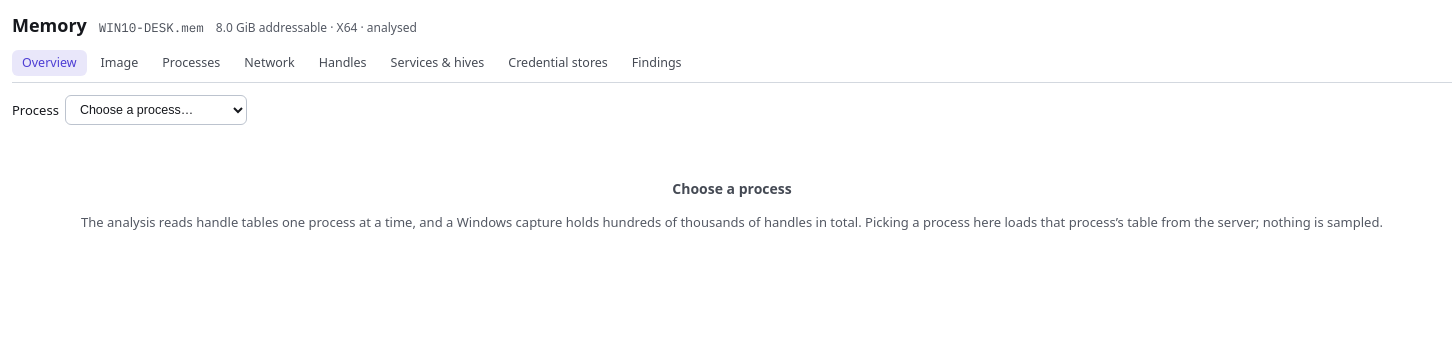
Test: MemoryHandlesPage › keeps an unnamed object apart from a name that could not be read, and neither from "not recorded"
Select "System (4) · 340 handles" in the dropdown labelled "Process" at x=156, y=110, box top-left (65, 95), bottom-right (247, 125)
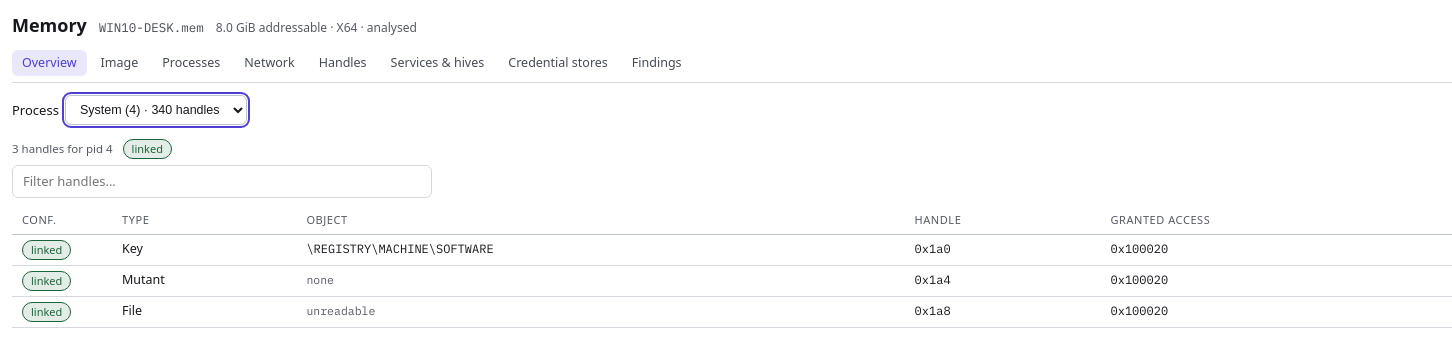
Now the text "\\REGISTRY\\MACHINE\\SOFTWARE" is shown, box top-left (296, 234), bottom-right (905, 265)
Now the text "none" is shown, box top-left (306, 272), bottom-right (334, 287)
Now the text "unreadable" is shown, box top-left (306, 303), bottom-right (375, 318)
